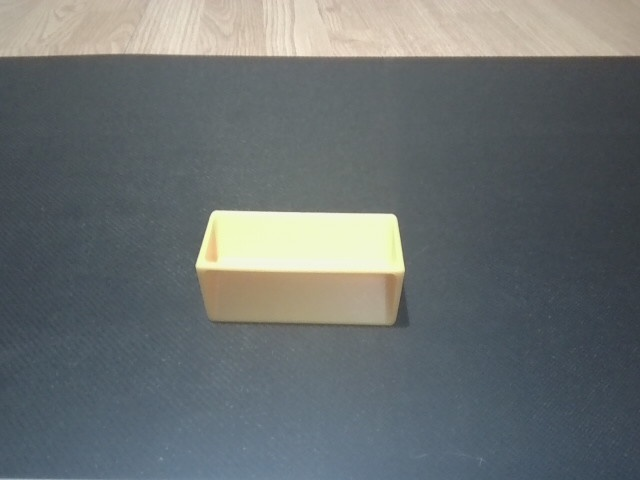YellowSample: (193, 208, 407, 327)
